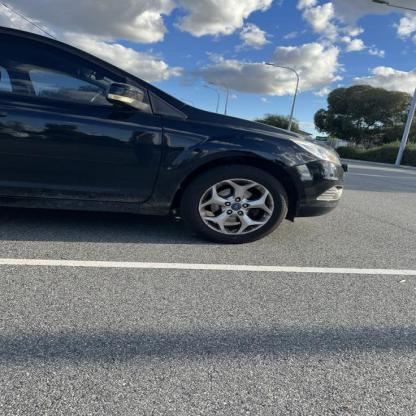Tire: (181, 165, 290, 244)
